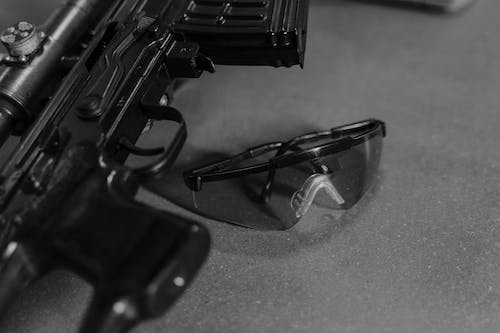gun: (0, 0, 313, 333)
